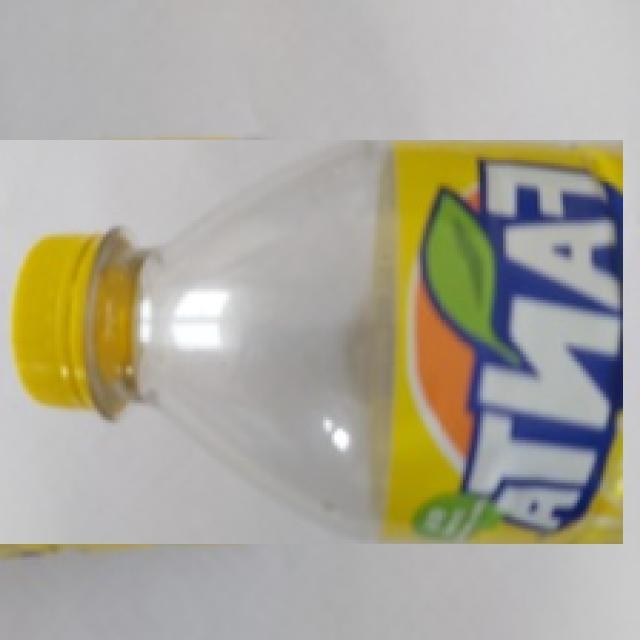BIODEGRADABLE: (0, 140, 623, 544)
